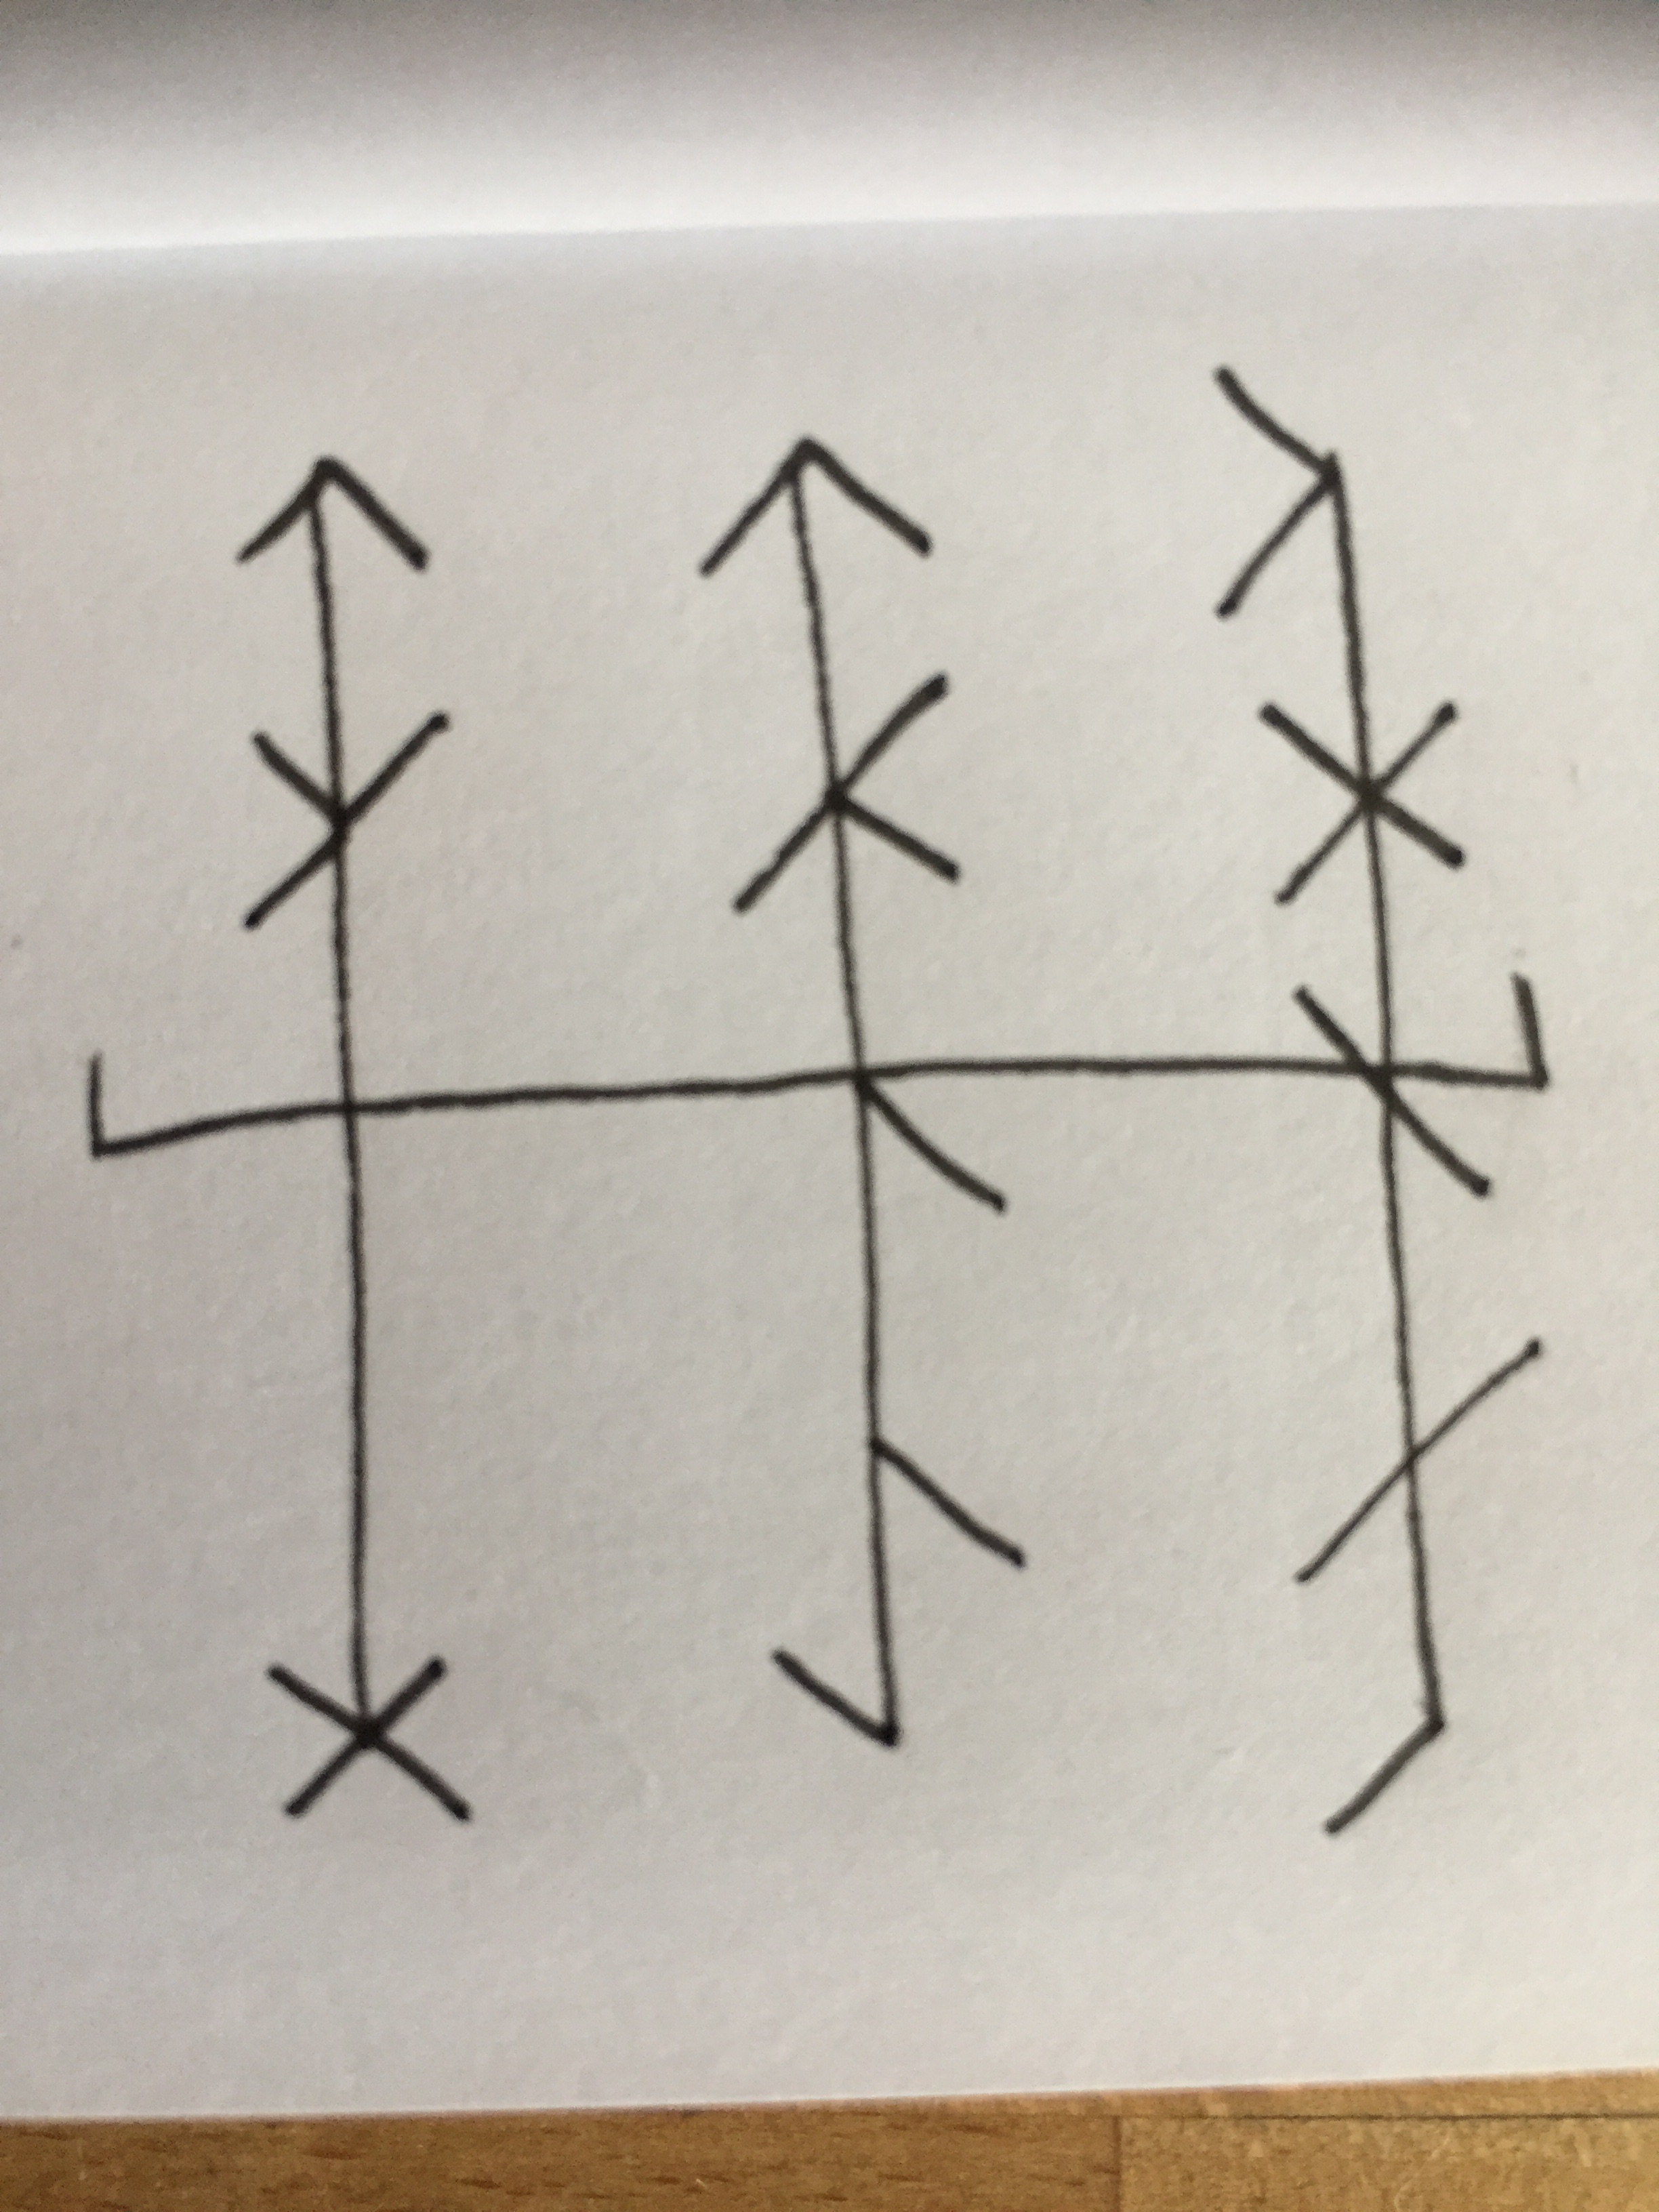Bar: (1211, 362, 1546, 1839), (697, 435, 1026, 1747), (235, 453, 477, 1827)
Barcode: (84, 361, 1553, 1841)
End: (1399, 970, 1553, 1097)
Start: (80, 1049, 333, 1167)
